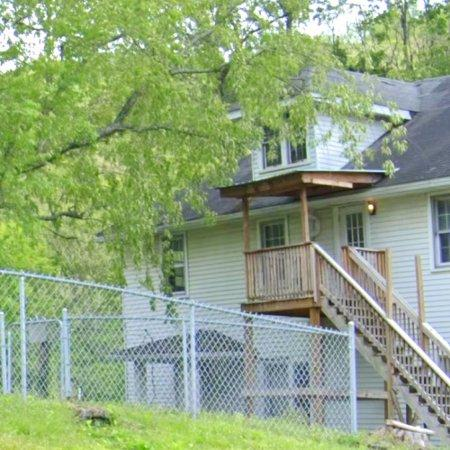stairs: (316, 246, 450, 445)
